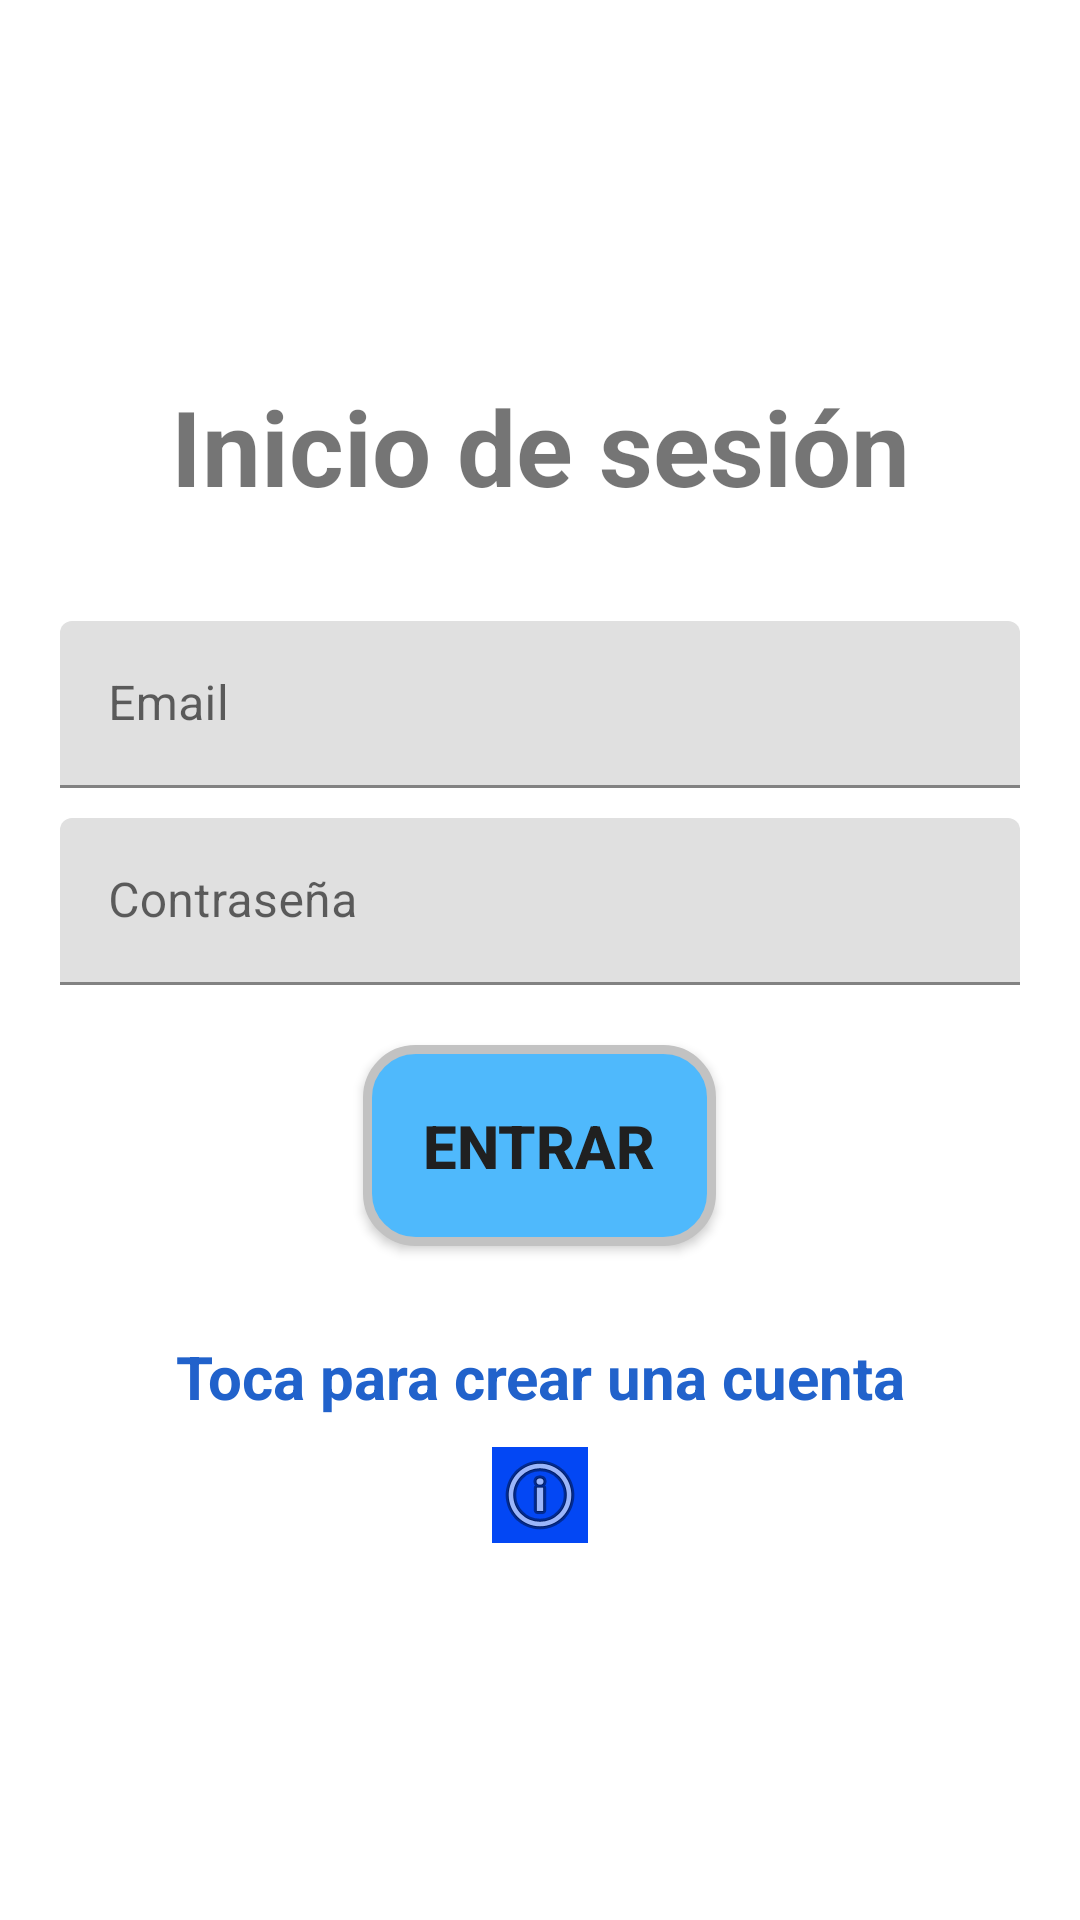

Point at icon controls on the screen. Image size 1080w x 1920h, points as point (x, y).
info details: point (540, 1495)
